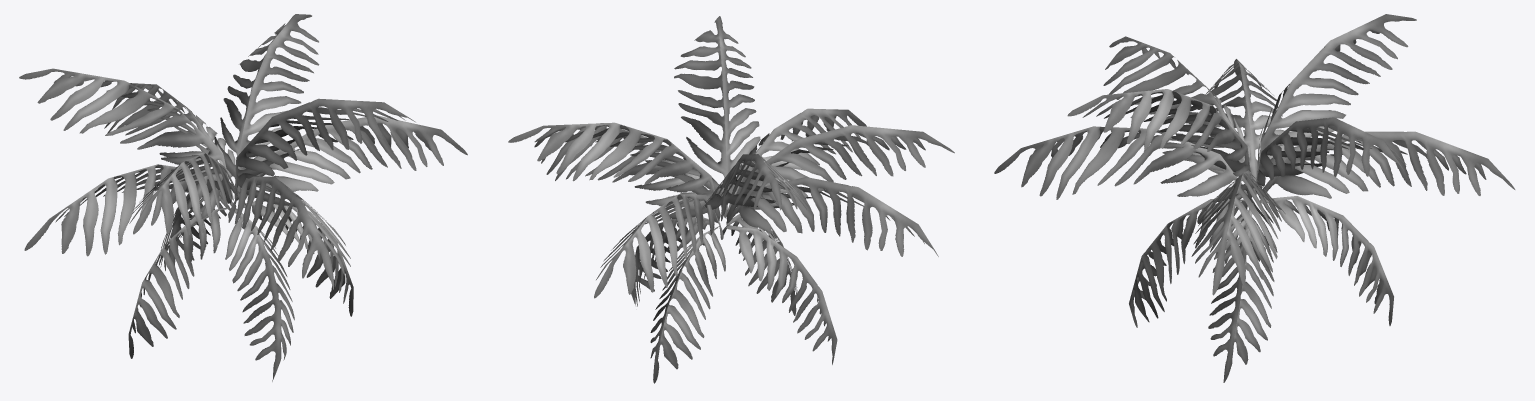
The model's file is Palm_top2.fbx.
The picture shows the model from 3 angles, left to right: view 1: azimuth 30°, elevation 25°; view 2: azimuth 150°, elevation 25°; view 3: azimuth 270°, elevation 25°; orthographic projection. The views are drawn at different scales.
Parts seen in each view (by area): view 1: polySurface178, polySurface181, polySurface175, polySurface180, polySurface177, polySurface176, polySurface183, polySurface179, polySurface185, polySurface172, polySurface182, polySurface184; view 2: polySurface180, polySurface181, polySurface177, polySurface179, polySurface172, polySurface184, polySurface185, polySurface178, polySurface176, polySurface175, polySurface182, polySurface183; view 3: polySurface176, polySurface172, polySurface181, polySurface178, polySurface175, polySurface180, polySurface184, polySurface182, polySurface179, polySurface183, polySurface177, polySurface185.
Part boxes in pixels (x1=…): polySurface178: x1=19, y1=68, x2=232, y2=196; polySurface181: x1=234, y1=98, x2=415, y2=202; polySurface175: x1=245, y1=115, x2=467, y2=199; polySurface180: x1=214, y1=14, x2=319, y2=200; polySurface177: x1=24, y1=164, x2=228, y2=256; polySurface176: x1=228, y1=176, x2=350, y2=289; polySurface183: x1=225, y1=209, x2=294, y2=381; polySurface179: x1=129, y1=153, x2=245, y2=234; polySurface185: x1=128, y1=207, x2=229, y2=358; polySurface172: x1=104, y1=83, x2=235, y2=200; polySurface182: x1=243, y1=200, x2=353, y2=316; polySurface184: x1=160, y1=192, x2=236, y2=270; polySurface180: x1=508, y1=122, x2=720, y2=218; polySurface181: x1=674, y1=16, x2=760, y2=218; polySurface177: x1=726, y1=177, x2=938, y2=256; polySurface179: x1=726, y1=125, x2=954, y2=219; polySurface172: x1=594, y1=194, x2=723, y2=298; polySurface184: x1=650, y1=226, x2=725, y2=383; polySurface185: x1=726, y1=225, x2=837, y2=364; polySurface178: x1=703, y1=154, x2=808, y2=221; polySurface176: x1=726, y1=108, x2=866, y2=216; polySurface175: x1=534, y1=123, x2=714, y2=209; polySurface182: x1=631, y1=217, x2=720, y2=306; polySurface183: x1=722, y1=214, x2=797, y2=315; polySurface176: x1=994, y1=126, x2=1247, y2=199; polySurface172: x1=1259, y1=131, x2=1515, y2=198; polySurface181: x1=1067, y1=89, x2=1250, y2=179; polySurface178: x1=1255, y1=14, x2=1416, y2=194; polySurface175: x1=1191, y1=170, x2=1285, y2=295; polySurface180: x1=1255, y1=117, x2=1406, y2=191; polySurface184: x1=1260, y1=196, x2=1393, y2=325; polySurface182: x1=1208, y1=203, x2=1277, y2=382; polySurface179: x1=1103, y1=36, x2=1250, y2=171; polySurface183: x1=1129, y1=199, x2=1244, y2=327; polySurface177: x1=1197, y1=59, x2=1284, y2=194; polySurface185: x1=1209, y1=188, x2=1278, y2=264.
Size of the model in its own units: 1.13 by 0.6687 by 1.13.
